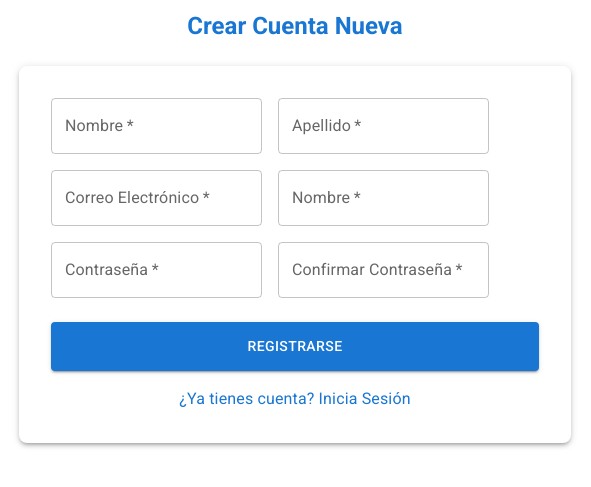
Scenario: Registro › validates required fields - password mismatch
Type "password1" into the password field labelled "Contraseña *".
click(156, 270); type("password1")  # box [51, 242, 262, 298]
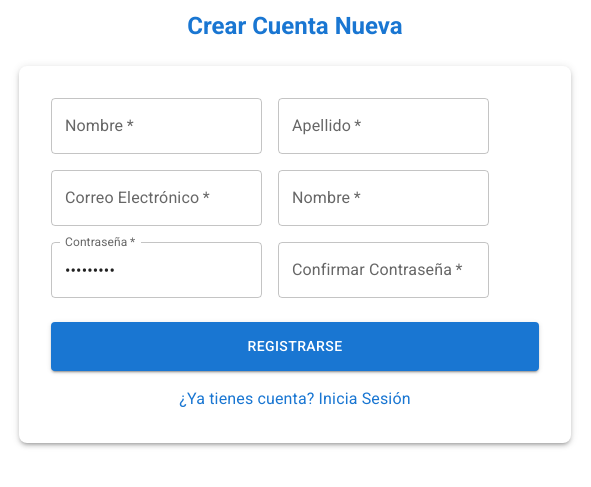
Type "differentpassword" into the password field labelled "Confirmar Contraseña *".
click(384, 270); type("differentpassword")  # box [278, 242, 489, 298]
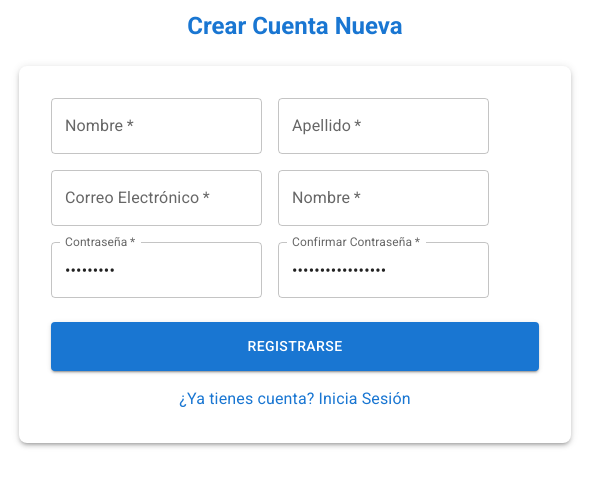
// Submit form
Click the button "Registrarse".
click(295, 346)  # box [51, 322, 539, 370]
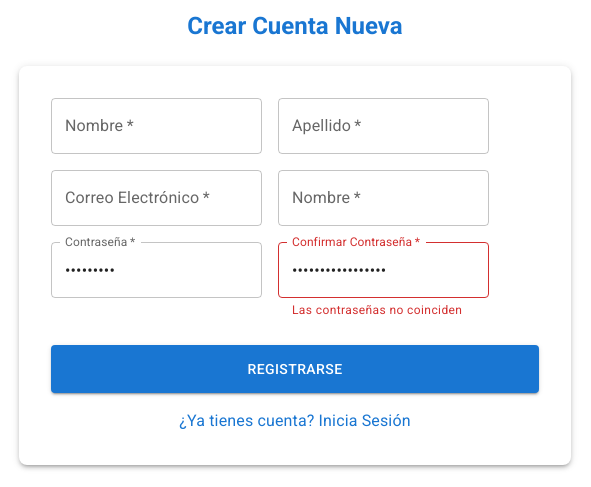
Now the text "Las contraseñas no coinciden" is shown, box [292, 301, 475, 321]
